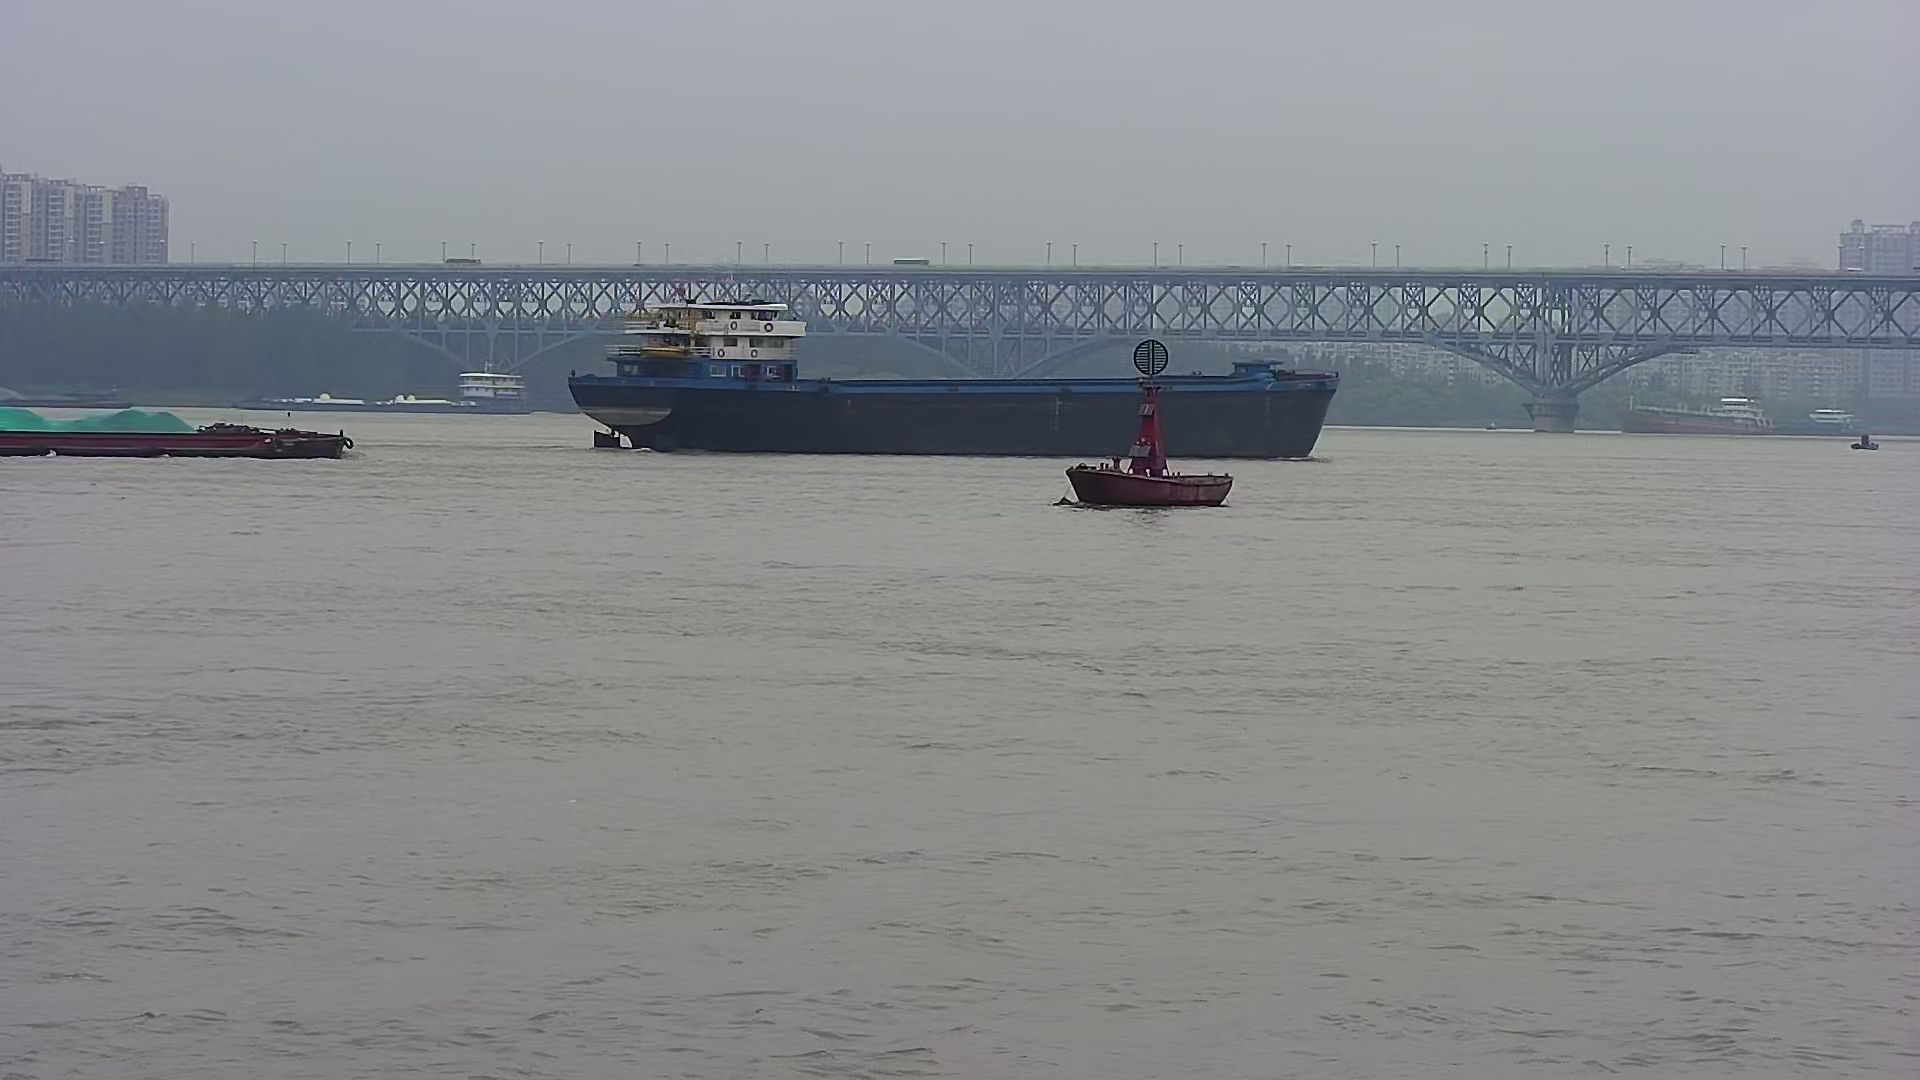boat: (1056, 332, 1250, 516)
bridge: (1, 243, 1908, 436)
ship: (558, 277, 1346, 458), (1, 393, 367, 464), (222, 355, 549, 419), (1617, 373, 1796, 447)
